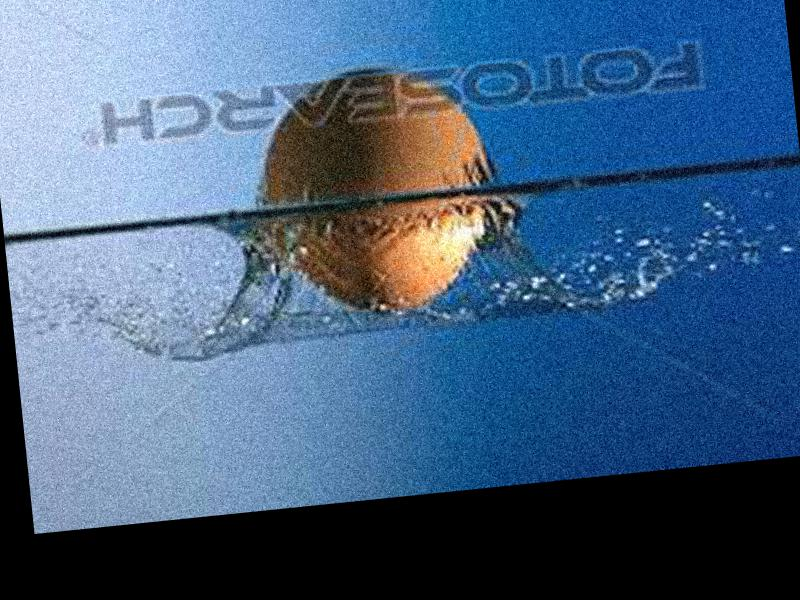Eggs: (252, 61, 500, 326)
